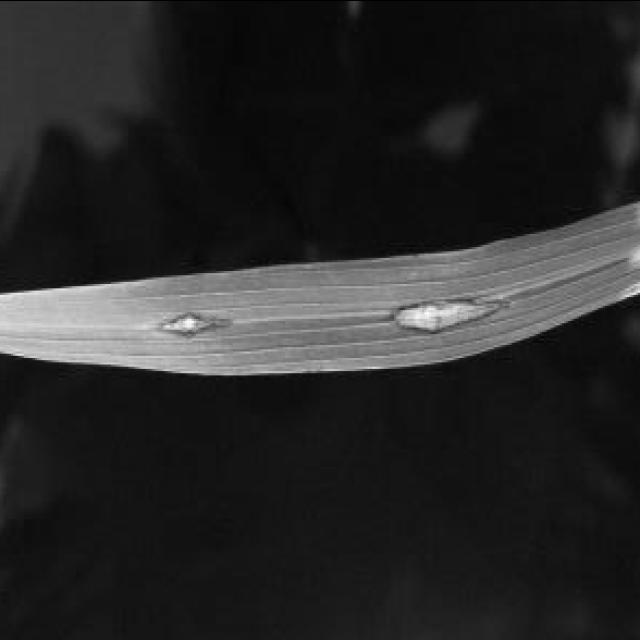Leaf_Blast: (362, 290, 532, 372), (144, 287, 270, 357)
